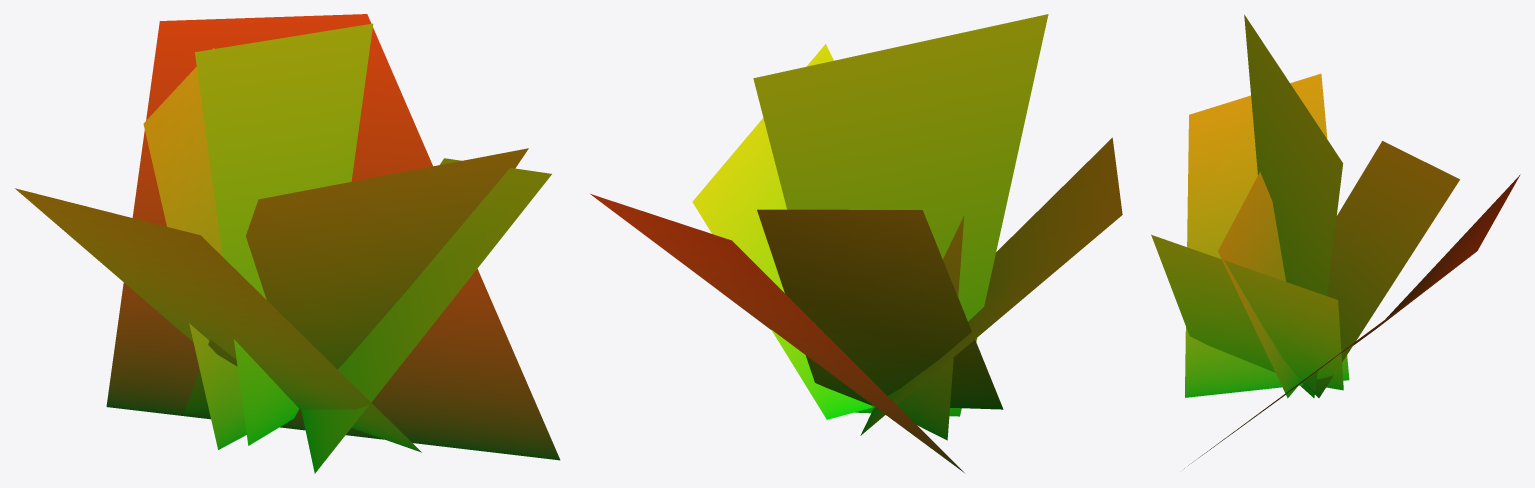
The model's file is Seaweed_LOD2_Var9_sdpjN.fbx.
3 renders of one model, left to right at view 1: azimuth 30°, elevation 25°; view 2: azimuth 150°, elevation 25°; view 3: azimuth 270°, elevation 25°, orthographic. The views are drawn at different scales.
Visible parts, largest first — view 1: _90d3_Var9_LOD2; view 2: _90d3_Var9_LOD2; view 3: _90d3_Var9_LOD2.
Boxes of the visible parts, left/top/right/bottom form: _90d3_Var9_LOD2: left=15, top=14, right=560, bottom=473; _90d3_Var9_LOD2: left=590, top=14, right=1122, bottom=472; _90d3_Var9_LOD2: left=1151, top=14, right=1520, bottom=468.
Bounding box in the file's own units: 12.7 × 12.07 × 11.84.
